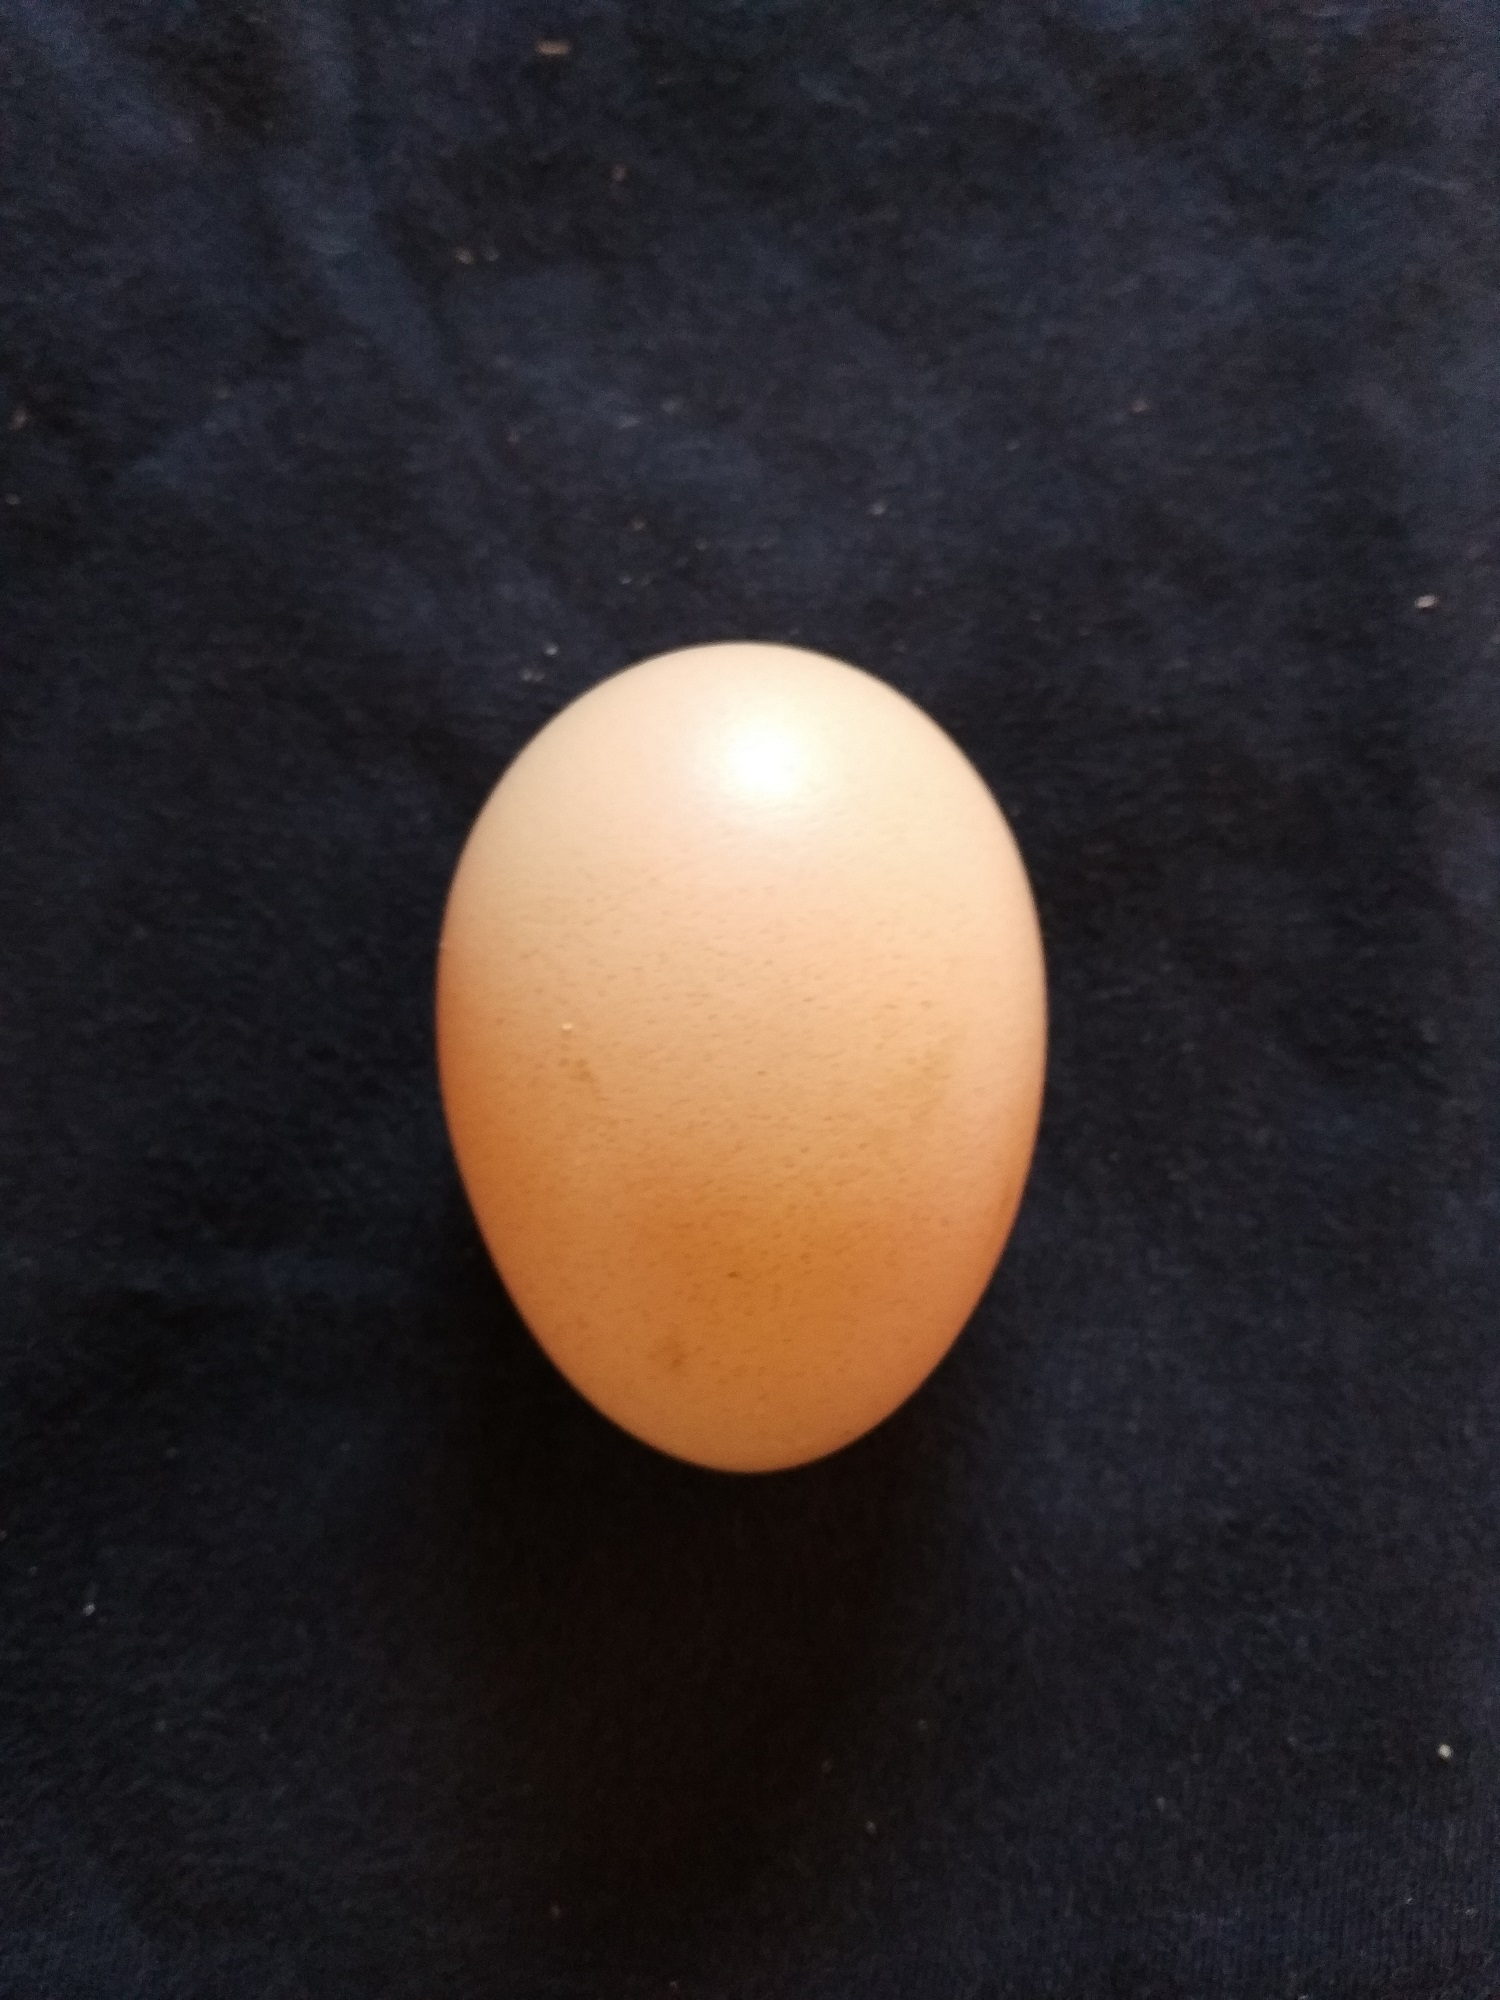Female: (413, 631, 1057, 1480)
